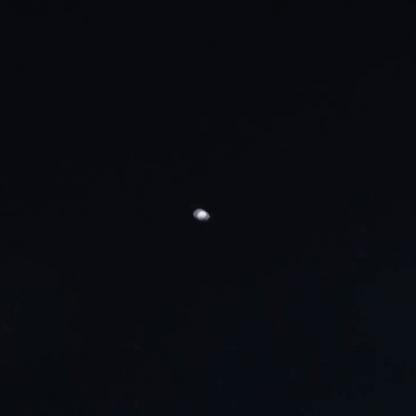ball: (185, 196, 218, 227)
